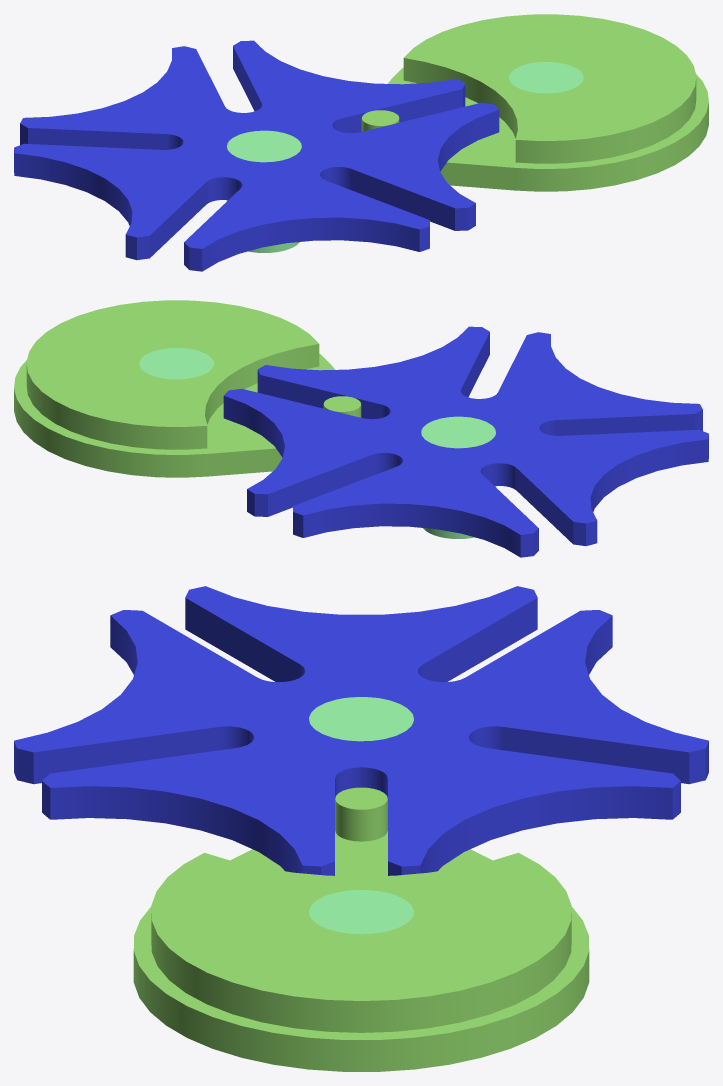
The model's file is geneva.glb.
3 views of the same model, one above another, from view 1: azimuth 30°, elevation 25°; view 2: azimuth 150°, elevation 25°; view 3: azimuth 270°, elevation 25° (orthographic). The views are drawn at different scales.
Parts seen in each view (by area): view 1: Geneva Mechanism OBJ; view 2: Geneva Mechanism OBJ; view 3: Geneva Mechanism OBJ.
Part boxes in pixels (box(x1,y1,x2,y2)): Geneva Mechanism OBJ: box(14, 14, 708, 271); Geneva Mechanism OBJ: box(14, 300, 708, 557); Geneva Mechanism OBJ: box(14, 586, 708, 1071).
Size of the model in its own units: 8.57 by 1.21 by 5.96.
